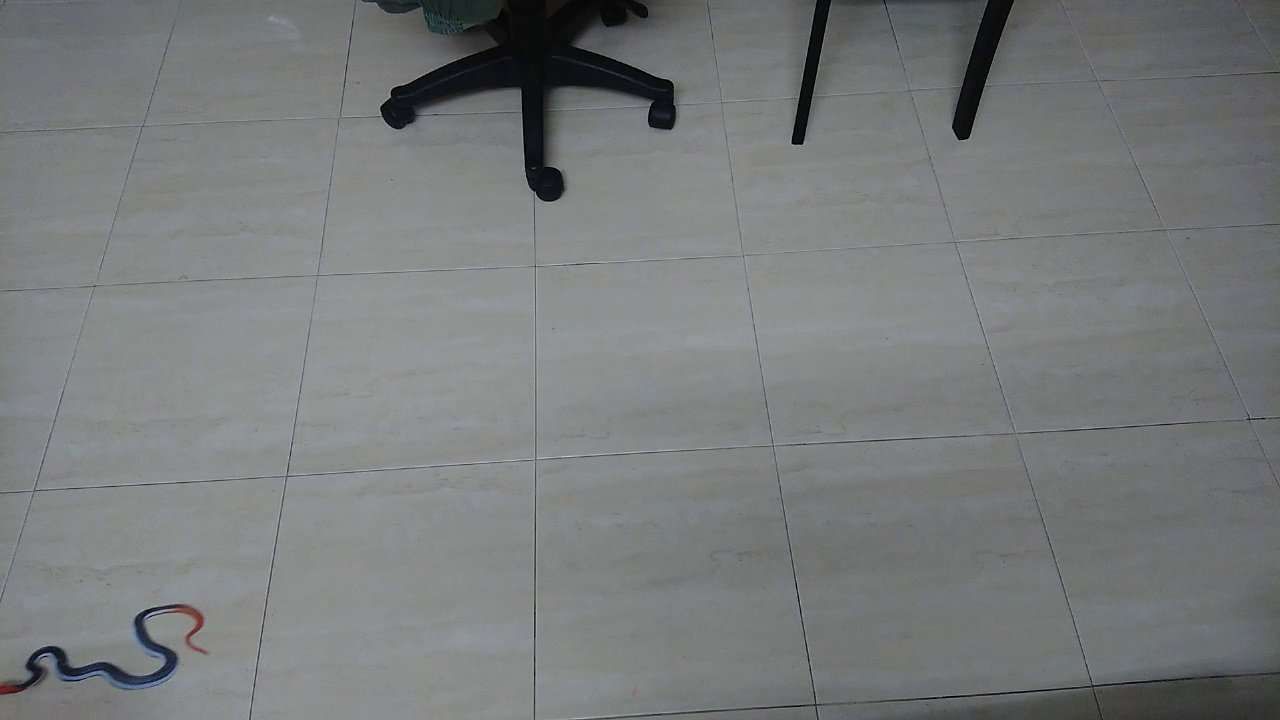snake: (1, 581, 221, 705)
